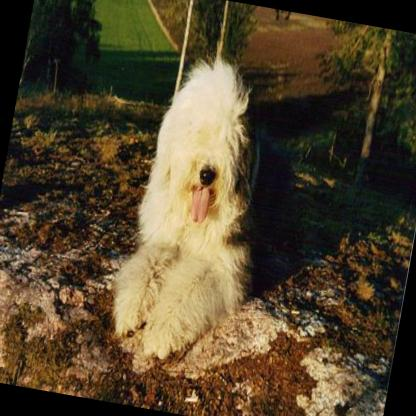Old_English_sheepdog: (98, 51, 287, 372)
